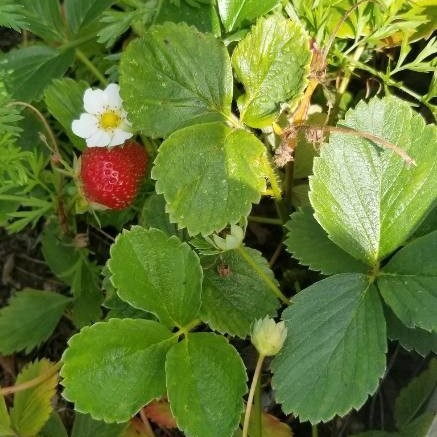obstacle: (57, 219, 267, 420), (288, 93, 423, 395), (120, 19, 300, 221)
